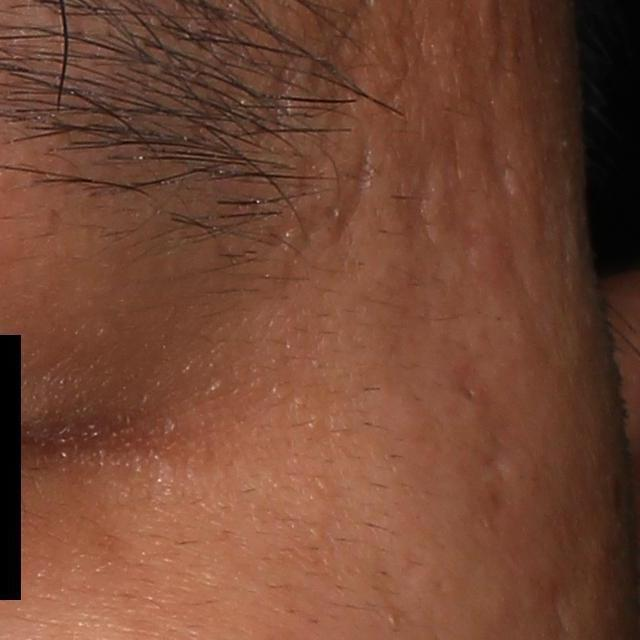atrophic_scar: (456, 364, 516, 546), (329, 120, 377, 229), (398, 155, 443, 230)
